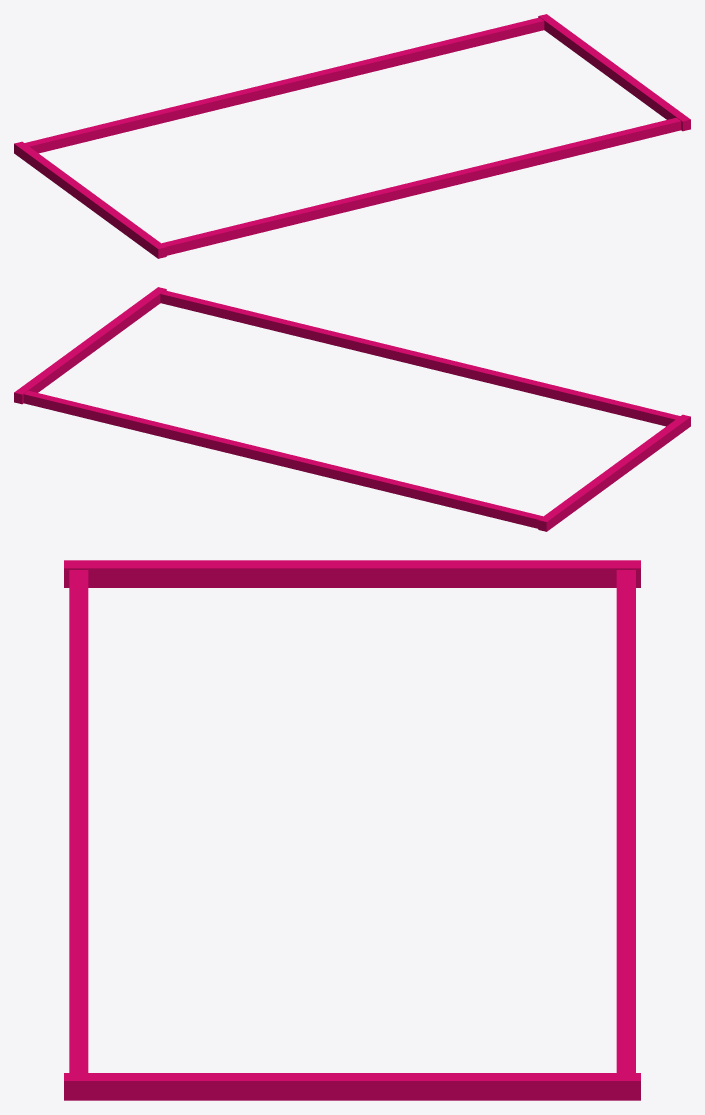
File: Modular_Cabin_01_Top.fbx
3 renders of one model, top to bottom at view 1: azimuth 30°, elevation 25°; view 2: azimuth 150°, elevation 25°; view 3: azimuth 270°, elevation 25°, orthographic. The views are drawn at different scales.
Parts seen in each view (by area): view 1: Modular_Cabin_01_Top; view 2: Modular_Cabin_01_Top; view 3: Modular_Cabin_01_Top.
Part boxes in pixels (x1,y1,x2,y2): Modular_Cabin_01_Top: [14, 14, 690, 258]; Modular_Cabin_01_Top: [14, 287, 690, 531]; Modular_Cabin_01_Top: [64, 560, 640, 1100].
Bounding box in the file's own units: 821 × 15.02 × 385.
